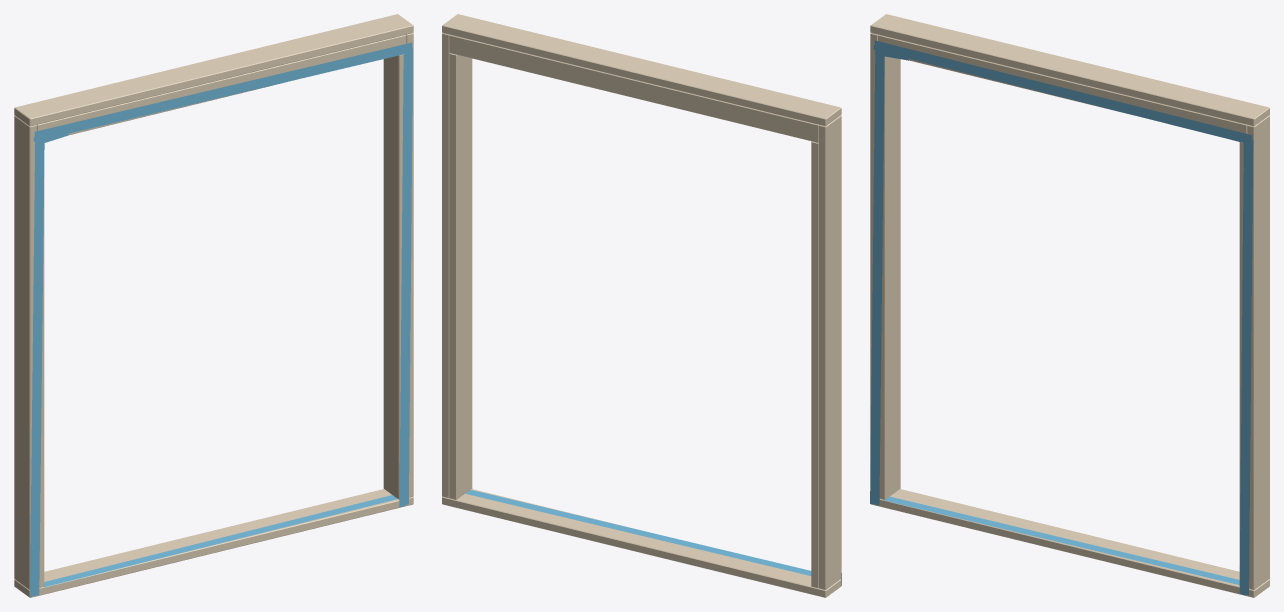
Rendered from Kit_DoorwayStuds180.fbx.
3 renders of one model, left to right at view 1: azimuth 30°, elevation 25°; view 2: azimuth 150°, elevation 25°; view 3: azimuth 330°, elevation 25°, orthographic.
Visible parts, largest first — view 1: Kit_DoorwayStuds180_LOD0; view 2: Kit_DoorwayStuds180_LOD0; view 3: Kit_DoorwayStuds180_LOD0.
Part boxes in pixels (bbox=[...]): Kit_DoorwayStuds180_LOD0: bbox=[14, 14, 413, 597]; Kit_DoorwayStuds180_LOD0: bbox=[442, 14, 841, 597]; Kit_DoorwayStuds180_LOD0: bbox=[870, 14, 1269, 597].
Size of what is drawn, in the model's own units: 1.95 by 2.33 by 0.1446.
